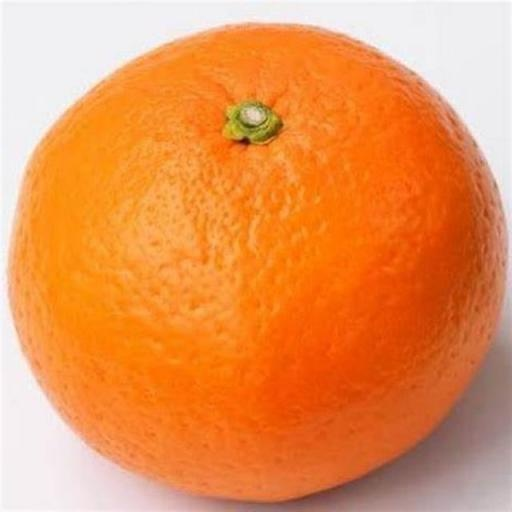fruit: (9, 25, 504, 500)
